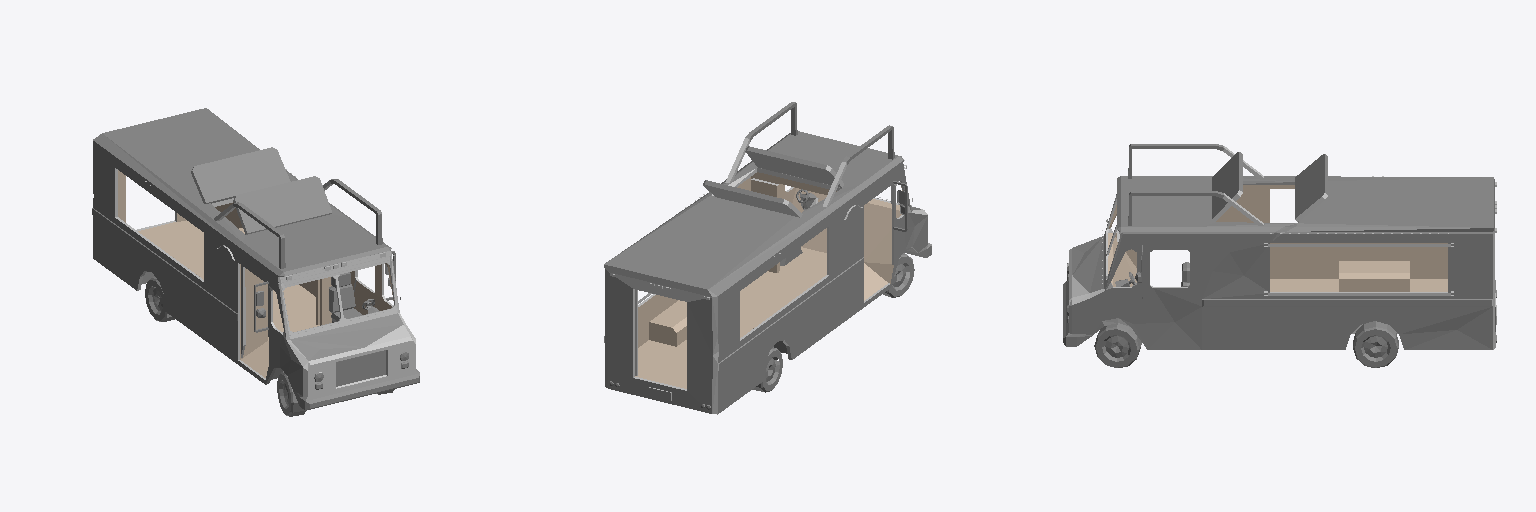
3 views of the same model, side by side, from view 1: azimuth 30°, elevation 25°; view 2: azimuth 150°, elevation 25°; view 3: azimuth 270°, elevation 25° (orthographic).
Visible parts, largest first — view 1: SinCityTacosTruck_obj; view 2: SinCityTacosTruck_obj; view 3: SinCityTacosTruck_obj.
Boxes of the visible parts, x1=… form: SinCityTacosTruck_obj: x1=92, y1=108, x2=419, y2=416; SinCityTacosTruck_obj: x1=604, y1=102, x2=931, y2=414; SinCityTacosTruck_obj: x1=1063, y1=144, x2=1496, y2=367.
Size of the model in its own units: 26.23 by 31.16 by 69.95.
Materials: 10 (1 with a texture image).